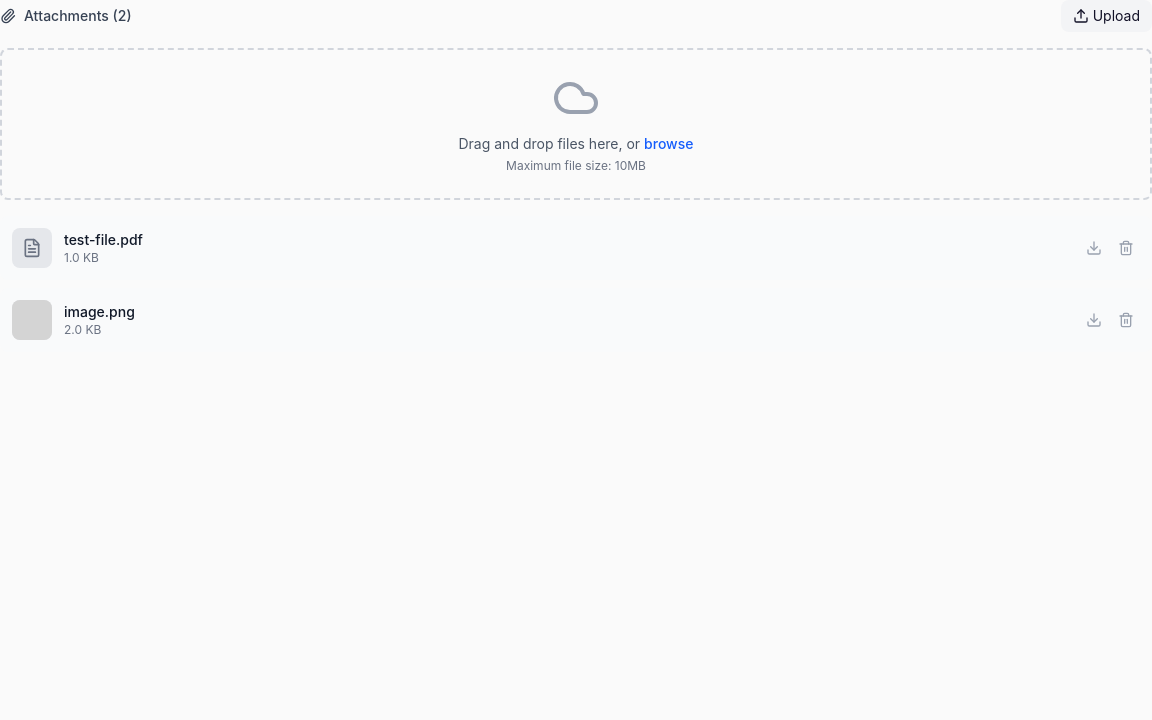
TaskAttachments › Deleting attachments › should show confirmation dialog when delete is clicked
The width and height of the screenshot is (1152, 720).
Expected: the text "test-file.pdf" is shown, [64,231,143,248]
Click delete button
What coordinates should you click on to do the following:
click the button titled "Delete" in the row of "test-file.pdf"
I would click on:
 (1126, 248)
Its box is [1112,234,1140,262].
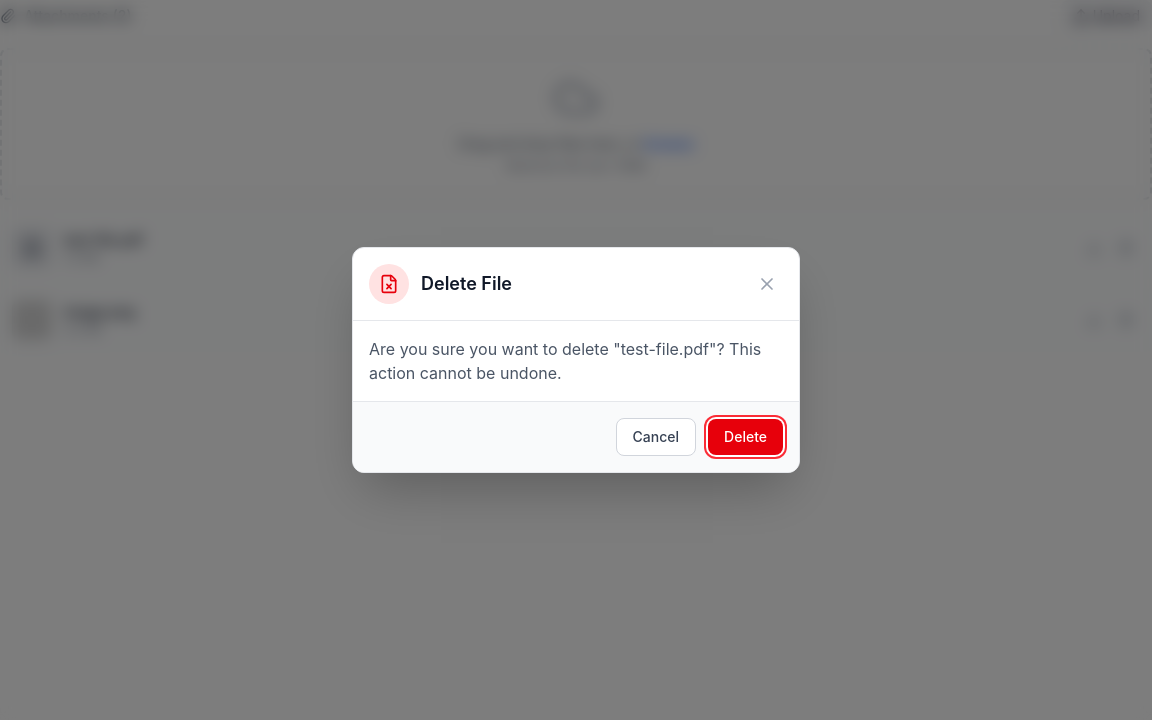
Expected: the heading "Delete File" is shown, [421,270,512,298]
Expected: the text "Are you sure you want to delete" is shown, [369,339,761,383]
